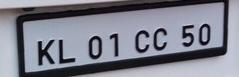0: (86, 33, 102, 59), (197, 21, 211, 46)
1: (107, 31, 120, 57)
5: (179, 23, 194, 48)
C: (151, 26, 168, 52), (133, 29, 149, 53)
K: (35, 37, 54, 66)
L: (57, 38, 75, 63)
